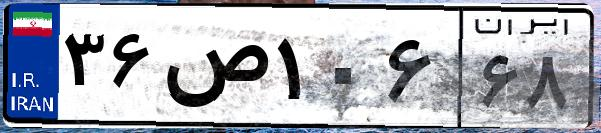0: (330, 28, 385, 110)
1: (270, 28, 330, 110)
3: (57, 26, 110, 100)
6: (385, 28, 445, 110), (475, 38, 525, 113), (110, 28, 158, 98)
8: (525, 38, 570, 115)
ص: (158, 20, 270, 120)
